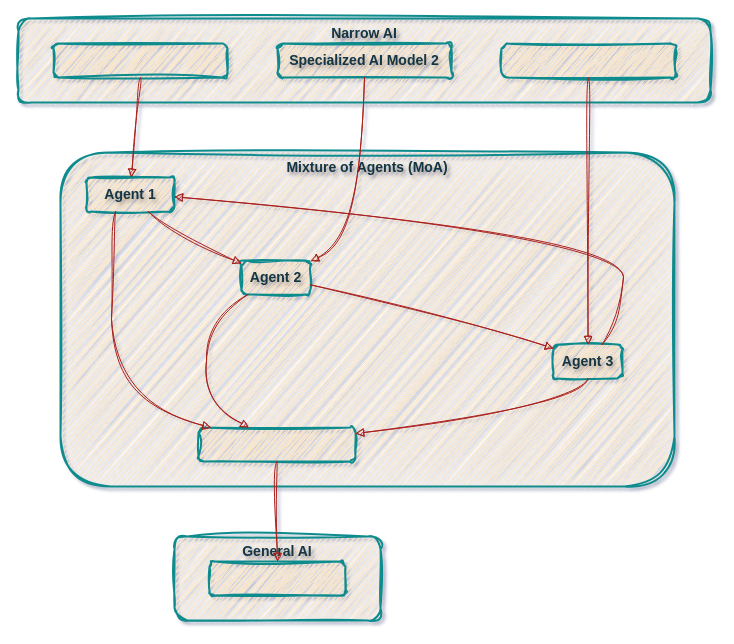
Some shapes in this 734 by 644 pixel diagram are drawn without their labels. The shapes that lost their labels are listed below. From the top down, each one's box as (x1, y1, x2, y2) in pixels, then its label:
(52, 42, 228, 78): Specialized AI Model 1
(500, 42, 676, 78): Specialized AI Model 3
(197, 426, 356, 462): Central Coordinator
(208, 560, 346, 596): General AI Model
